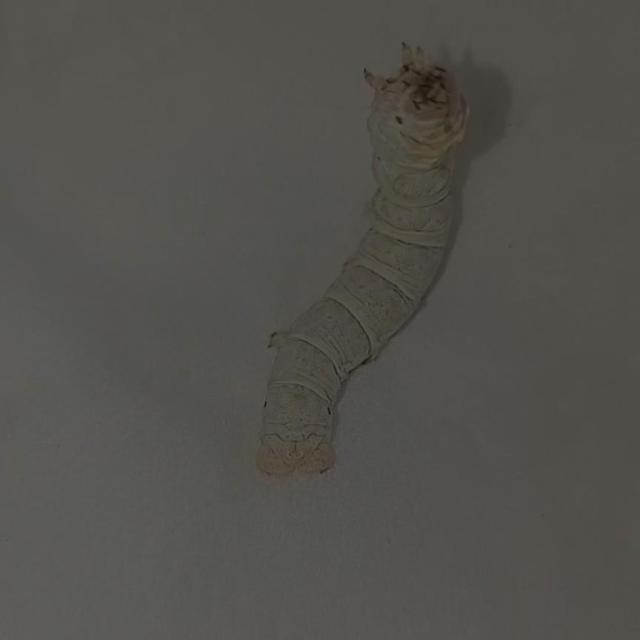Healthy: (240, 17, 489, 506)
